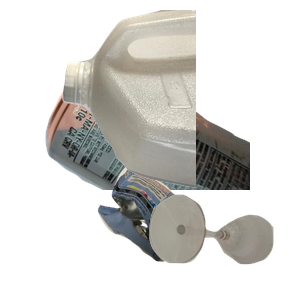glass: (147, 192, 300, 300)
metal: (43, 58, 283, 238)
plastic: (60, 10, 300, 190)
trash: (95, 157, 282, 300)
